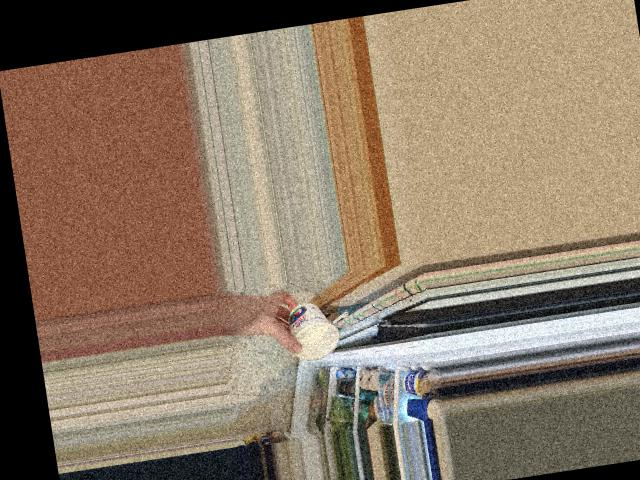cotage: (284, 299, 337, 361)
